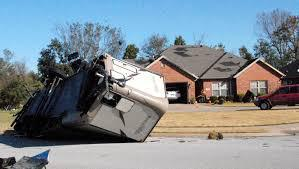affected: (134, 41, 286, 108)
